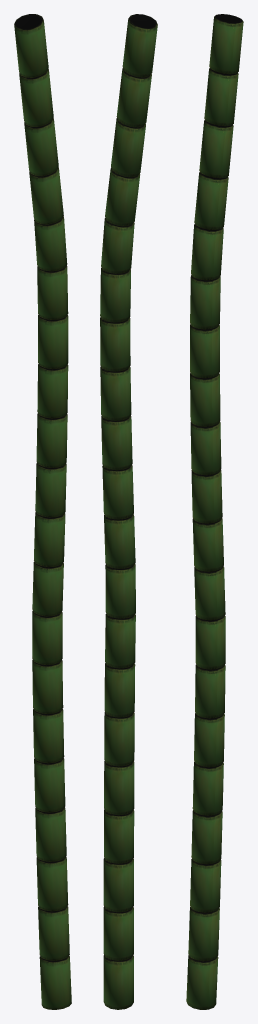
File: bamboo.fbx
3 renders of one model, left to right at view 1: azimuth 90°, elevation 25°; view 2: azimuth 210°, elevation 25°; view 3: azimuth 270°, elevation 25°, orthographic.
Parts seen in each view (by area): view 1: bamboo; view 2: bamboo; view 3: bamboo.
Boxes of the visible parts, x1,y1,x2,y2 form: bamboo: (14, 14, 71, 1009); bamboo: (100, 14, 157, 1009); bamboo: (186, 14, 243, 1009).
Bounding box in the file's own units: 185 × 4193 × 221.
